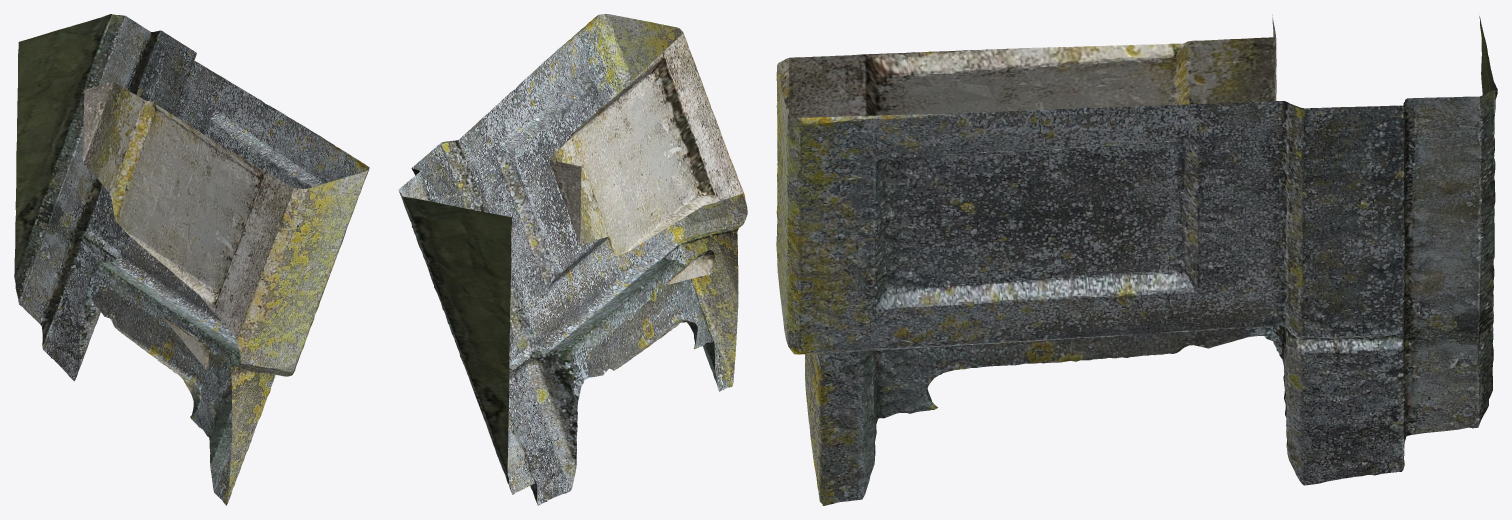
The model's file is Tile_+008_+008.obj.
The picture shows the model from 3 angles, left to right: view 1: azimuth 30°, elevation 25°; view 2: azimuth 150°, elevation 25°; view 3: azimuth 270°, elevation 25°; orthographic projection. The views are drawn at different scales.
Size of the model in its own units: 0.505 by 1.11 by 1.48.
Materials: 1 (1 with a texture image).
